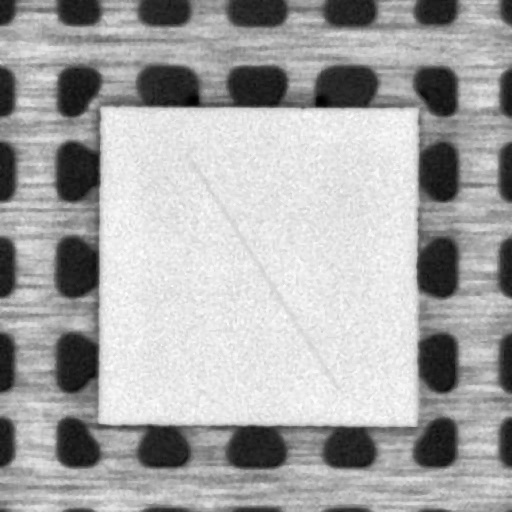DIE_CRACK: (185, 153, 338, 390)
